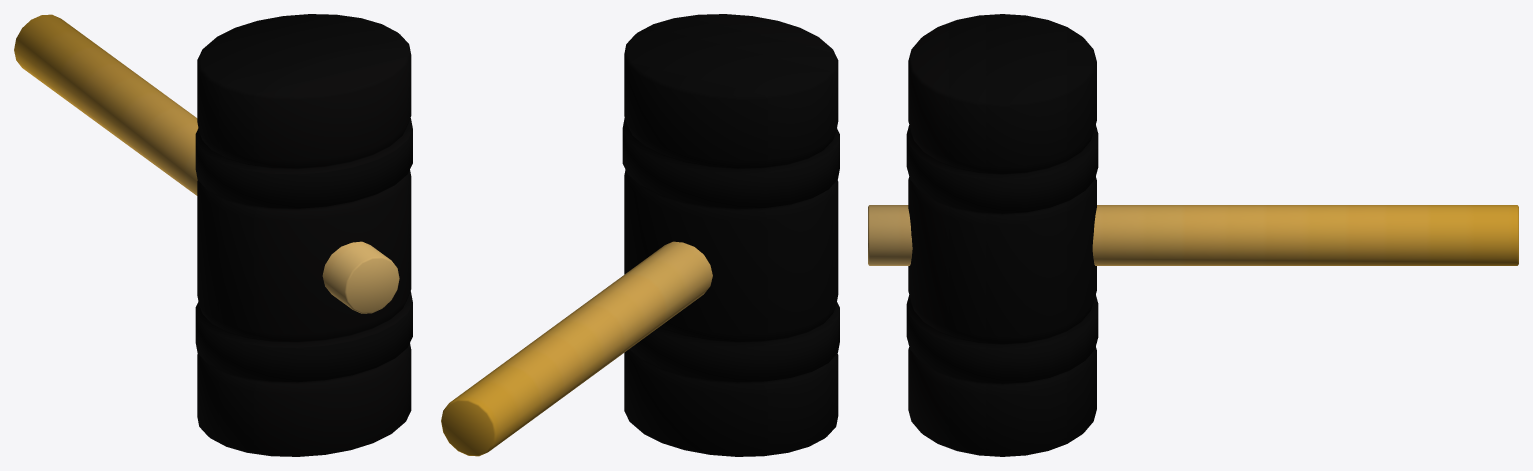
Rendered from bulava.fbx.
3 renders of one model, left to right at view 1: azimuth 30°, elevation 25°; view 2: azimuth 150°, elevation 25°; view 3: azimuth 270°, elevation 25°, orthographic. The views are drawn at different scales.
Parts seen in each view (by area): view 1: bulava; view 2: bulava; view 3: bulava.
Boxes of the visible parts, x1,y1,x2,y2 form: bulava: [14, 14, 412, 456]; bulava: [441, 14, 839, 456]; bulava: [868, 14, 1518, 456].
Size of the model in its own units: 0.0508 by 0.09 by 0.15.
